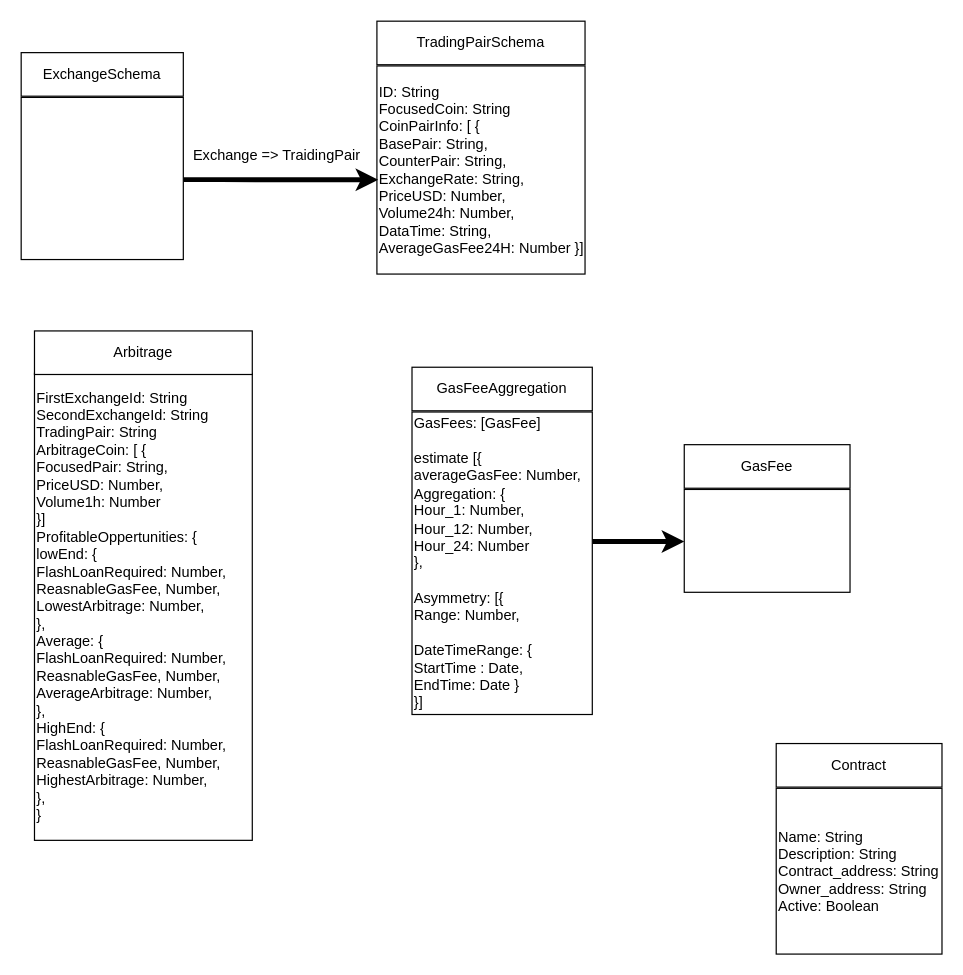
Image size: 963x975. Some labels were removed from this diagram. Here are the shapes that lost their labels. From the top down, the centre of each, then its label:
[101,178]: ID: String ExchangeName: String TraidingPairs: [TradingPairSchema]
[766,540]: GasFeeUsd: String GasFeeGwei: Number DateRecorded: Date
